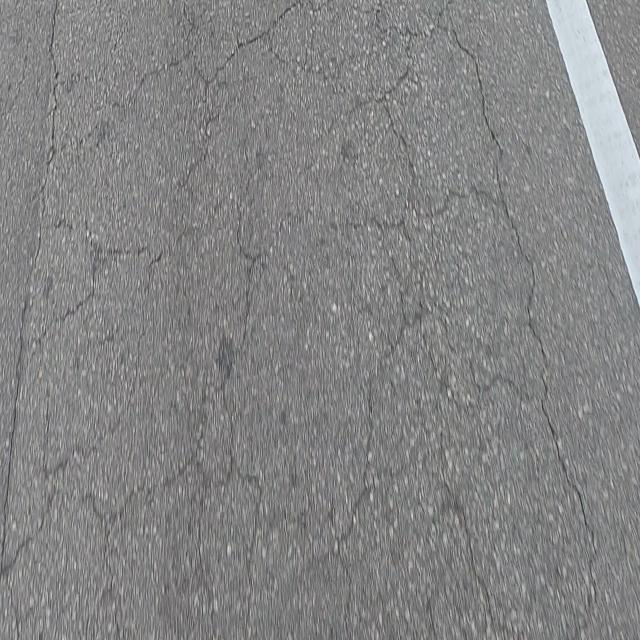Retak-Buaya: (0, 0, 592, 640)
